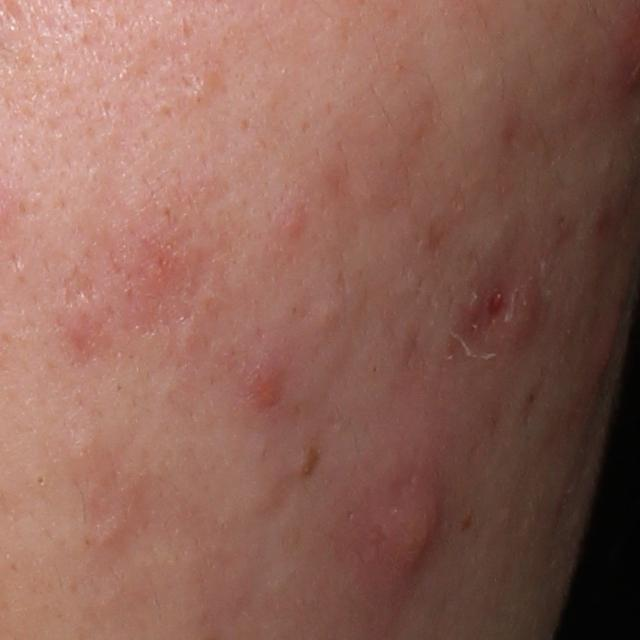atrophic_scar: (65, 267, 97, 307)
comedo: (65, 428, 105, 462), (185, 71, 213, 105)
nodule: (366, 465, 468, 610)
papule: (582, 287, 627, 409), (498, 275, 552, 354), (232, 345, 284, 426), (280, 202, 310, 245)
